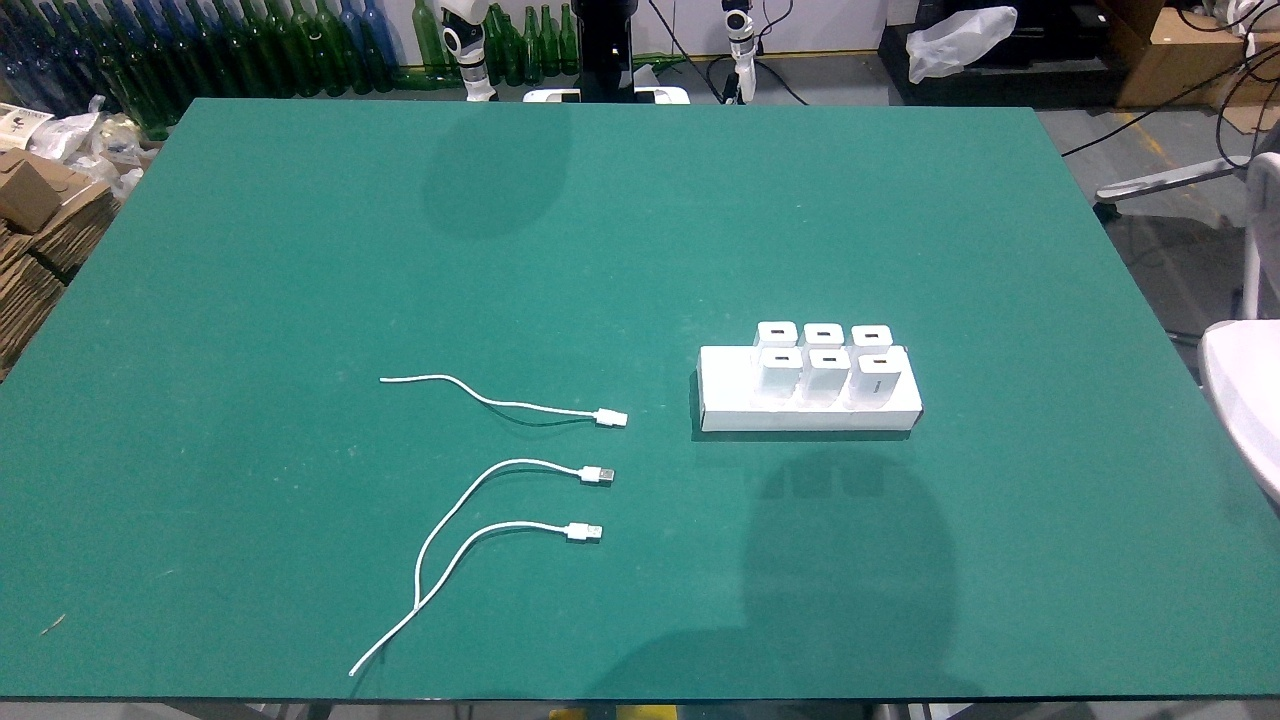usb_a_port: (814, 328, 833, 339), (772, 355, 792, 364), (871, 357, 891, 366), (821, 355, 840, 364), (769, 328, 789, 336), (861, 332, 882, 339)
